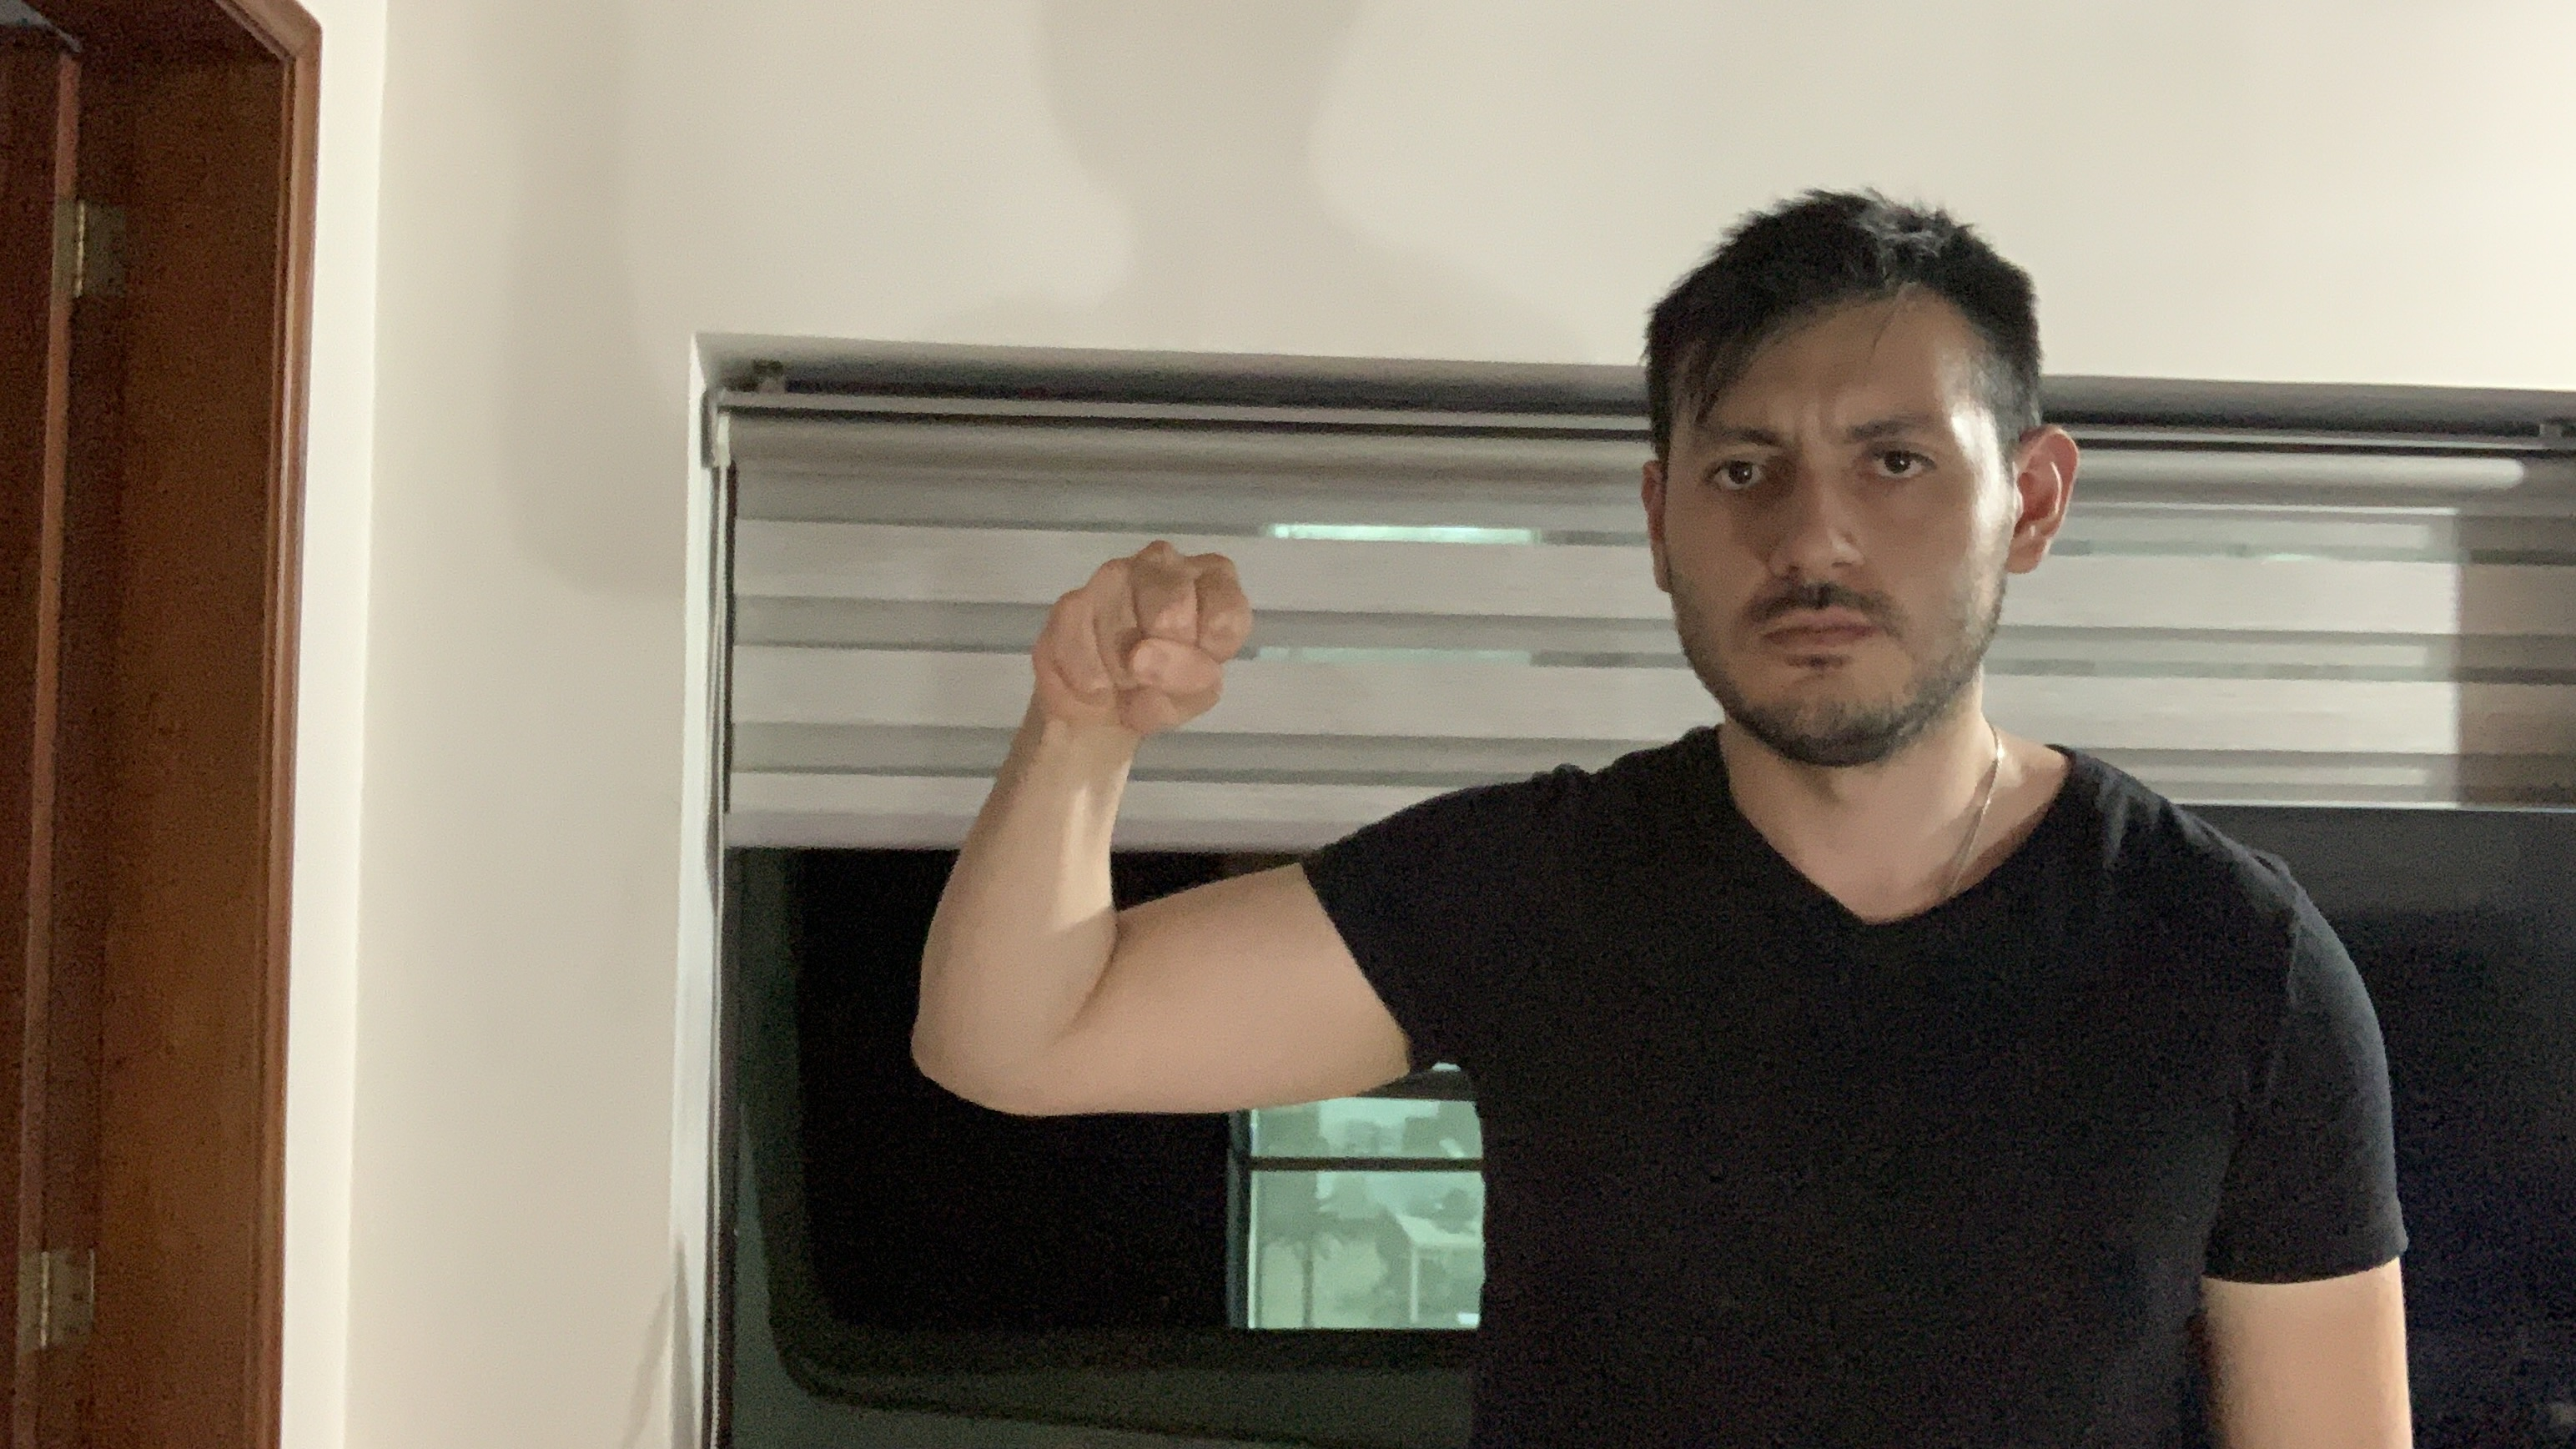Yes: (1021, 536, 1281, 764)
